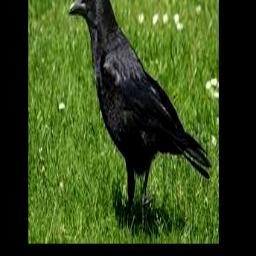Crow: (68, 0, 211, 225)
